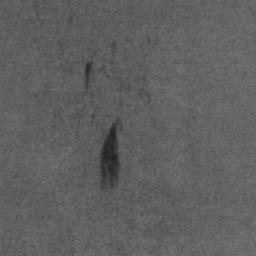Iron scale compression: (100, 130, 121, 192), (87, 62, 92, 91)
